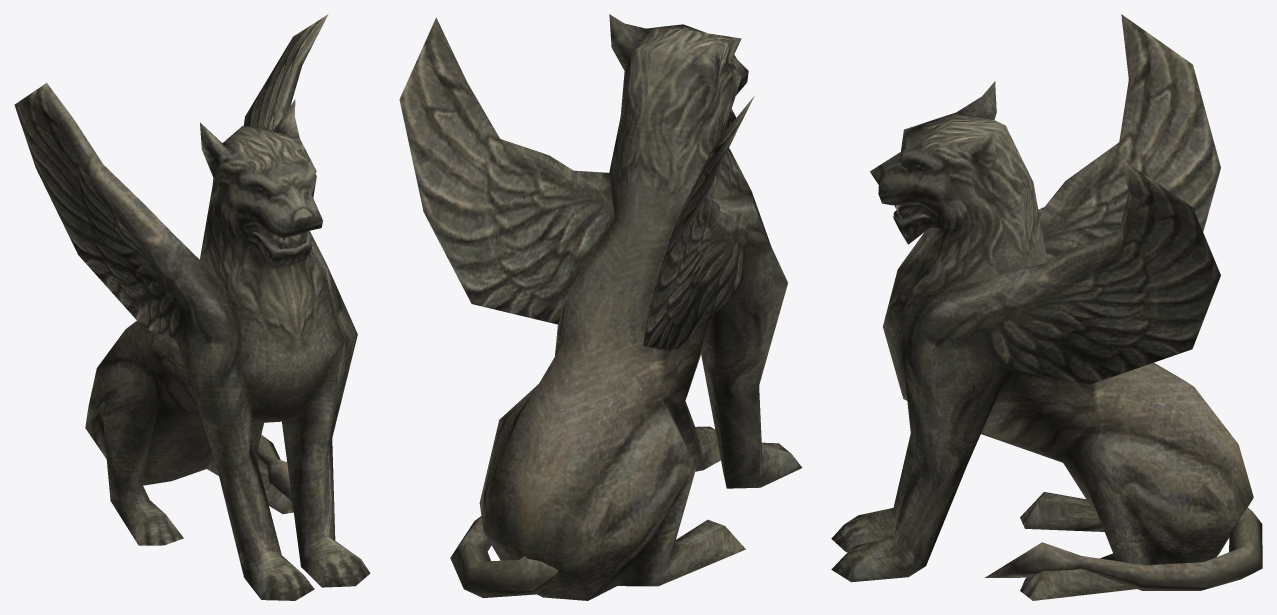
File: Statue06_c.FBX
The picture shows the model from 3 angles, left to right: view 1: azimuth 30°, elevation 25°; view 2: azimuth 150°, elevation 25°; view 3: azimuth 270°, elevation 25°; orthographic projection. The views are drawn at different scales.
Visible parts, largest first — view 1: Statue06_c; view 2: Statue06_c; view 3: Statue06_c.
Part boxes in pixels (x1=…): Statue06_c: x1=14, y1=14, x2=370, y2=600; Statue06_c: x1=399, y1=14, x2=802, y2=600; Statue06_c: x1=831, y1=14, x2=1262, y2=600.
Bounding box in the file's own units: 117 × 178 × 147.
